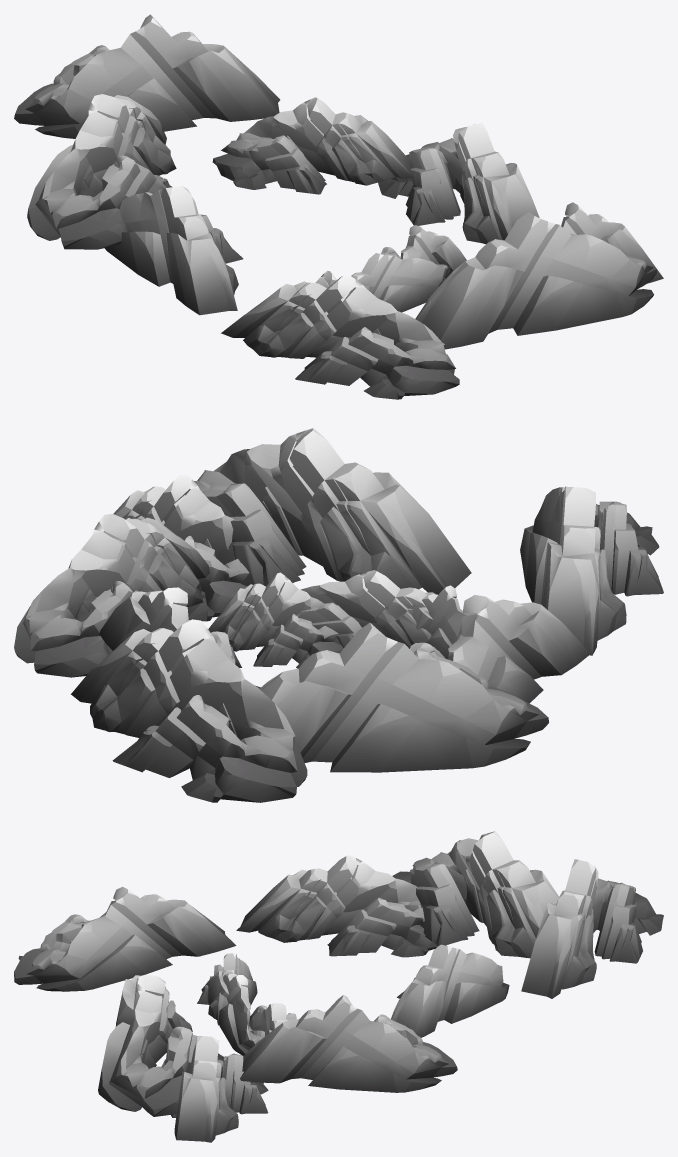
3 views of the same model, one above another, from view 1: azimuth 30°, elevation 25°; view 2: azimuth 150°, elevation 25°; view 3: azimuth 270°, elevation 25° (orthographic). The views are drawn at different scales.
Visible parts, largest first — view 1: DistantBackgroundMountains (5), DistantBackgroundMountains (3), DistantBackgroundMountains (2), DistantBackgroundMountains, DistantBackgroundMountains (6), DistantBackgroundMountains (7), DistantBackgroundMountains (1), DistantBackgroundMountains (9), DistantBackgroundMountains (4), DistantBackgroundMountains (8); view 2: DistantBackgroundMountains, DistantBackgroundMountains (5), DistantBackgroundMountains (2), DistantBackgroundMountains (7), DistantBackgroundMountains (3), DistantBackgroundMountains (1), DistantBackgroundMountains (4), DistantBackgroundMountains (8), DistantBackgroundMountains (9), DistantBackgroundMountains (6), DistantBackgroundMountains (10); view 3: DistantBackgroundMountains (7), DistantBackgroundMountains (3), DistantBackgroundMountains (1), DistantBackgroundMountains, DistantBackgroundMountains (2), DistantBackgroundMountains (5), DistantBackgroundMountains (6), DistantBackgroundMountains (4), DistantBackgroundMountains (9), DistantBackgroundMountains (10), DistantBackgroundMountains (8).
Boxes of the visible parts, x1,y1,x2,y2 form: DistantBackgroundMountains (5): (415, 212, 656, 349); DistantBackgroundMountains (3): (221, 275, 459, 399); DistantBackgroundMountains (2): (14, 14, 280, 138); DistantBackgroundMountains: (27, 94, 176, 249); DistantBackgroundMountains (6): (212, 97, 414, 194); DistantBackgroundMountains (7): (378, 122, 539, 244); DistantBackgroundMountains (1): (104, 186, 243, 315); DistantBackgroundMountains (9): (351, 253, 451, 312); DistantBackgroundMountains (4): (561, 202, 663, 283); DistantBackgroundMountains (8): (380, 225, 466, 283); DistantBackgroundMountains: (260, 623, 548, 772); DistantBackgroundMountains (5): (194, 428, 471, 594); DistantBackgroundMountains (2): (71, 619, 307, 802); DistantBackgroundMountains (7): (14, 514, 209, 677); DistantBackgroundMountains (3): (520, 486, 663, 655); DistantBackgroundMountains (1): (410, 595, 590, 703); DistantBackgroundMountains (4): (113, 474, 249, 621); DistantBackgroundMountains (8): (208, 572, 343, 668); DistantBackgroundMountains (9): (267, 570, 462, 648); DistantBackgroundMountains (6): (99, 587, 260, 688); DistantBackgroundMountains (10): (409, 585, 464, 659); DistantBackgroundMountains (7): (240, 995, 457, 1092); DistantBackgroundMountains (3): (14, 886, 236, 991); DistantBackgroundMountains (1): (236, 855, 446, 957); DistantBackgroundMountains: (392, 831, 558, 958); DistantBackgroundMountains (2): (521, 859, 663, 998); DistantBackgroundMountains (5): (98, 974, 224, 1116); DistantBackgroundMountains (6): (391, 944, 509, 1037); DistantBackgroundMountains (4): (171, 1036, 268, 1142); DistantBackgroundMountains (9): (201, 971, 267, 1055); DistantBackgroundMountains (10): (197, 953, 257, 1025); DistantBackgroundMountains (8): (249, 1003, 296, 1037).
Size of the model in its own units: 157 by 51.87 by 200.
1 material, 1 textured.
